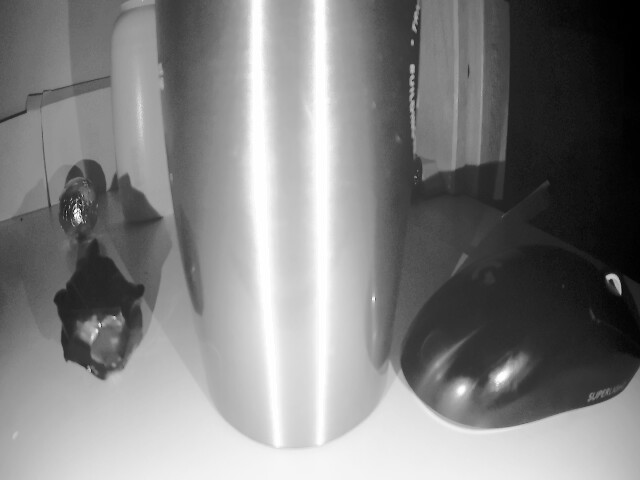black: (52, 259, 147, 380)
silver: (53, 176, 103, 242)
